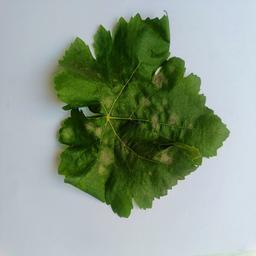Powdery-Mildew: (87, 121, 120, 174), (145, 105, 183, 134), (102, 84, 130, 112), (61, 128, 77, 143), (155, 72, 170, 87), (140, 94, 155, 109), (158, 147, 173, 162)
